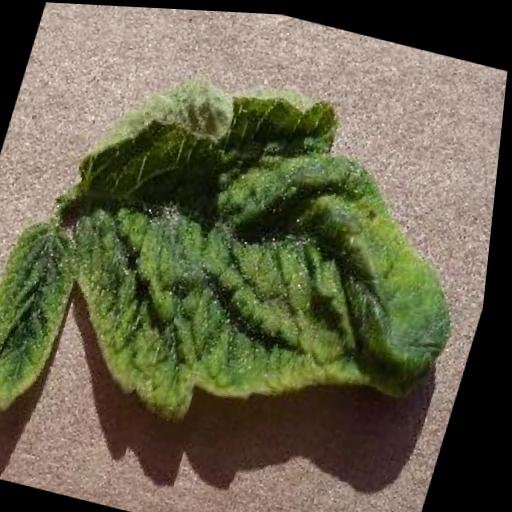Yellow Leaf Curl Virus: (0, 33, 509, 508)
